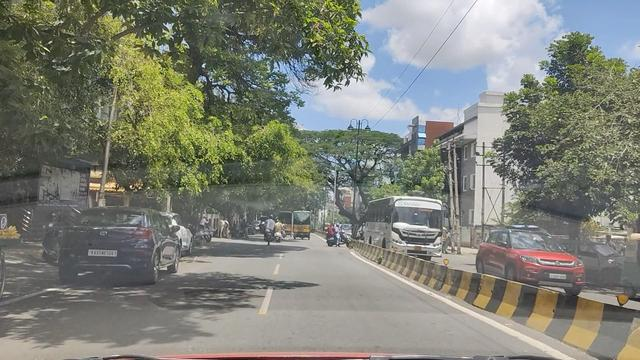LMV: (57, 204, 169, 280), (320, 217, 350, 247), (263, 213, 277, 243)
